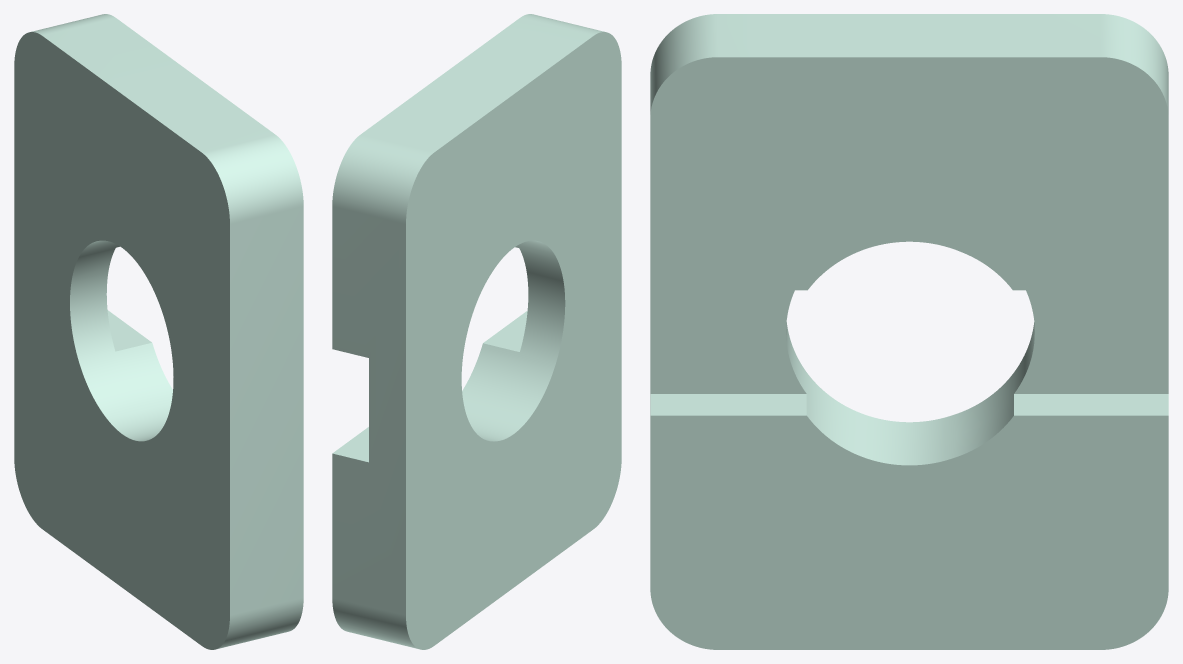
The model's file is expected.gltf.
3 renders of one model, left to right at view 1: azimuth 30°, elevation 25°; view 2: azimuth 150°, elevation 25°; view 3: azimuth 270°, elevation 25°, orthographic. The views are drawn at different scales.
Parts seen in each view (by area): view 1: Renderer Node; view 2: Renderer Node; view 3: Renderer Node.
Part boxes in pixels (x1,y1,x2,y2): Renderer Node: (14, 14, 303, 649); Renderer Node: (332, 14, 621, 649); Renderer Node: (650, 14, 1168, 649).
Size of the model in its own units: 0.2344 by 1.5 by 1.19.
